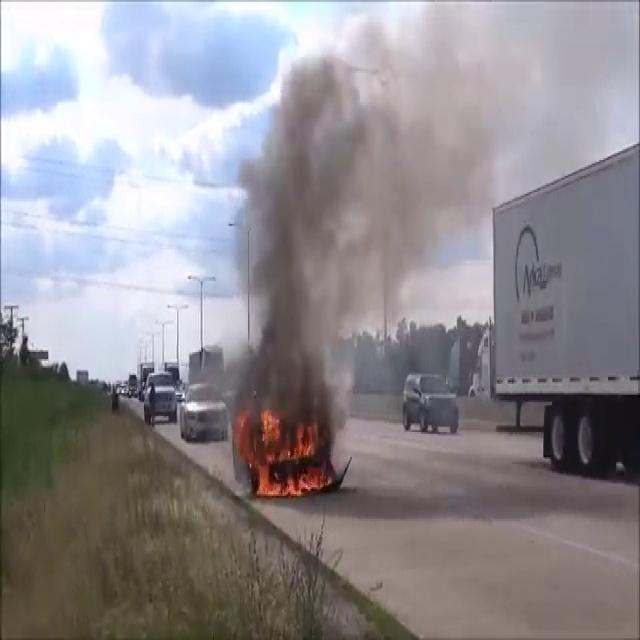Fire: (250, 399, 332, 502)
Smoke: (229, 3, 499, 417)
